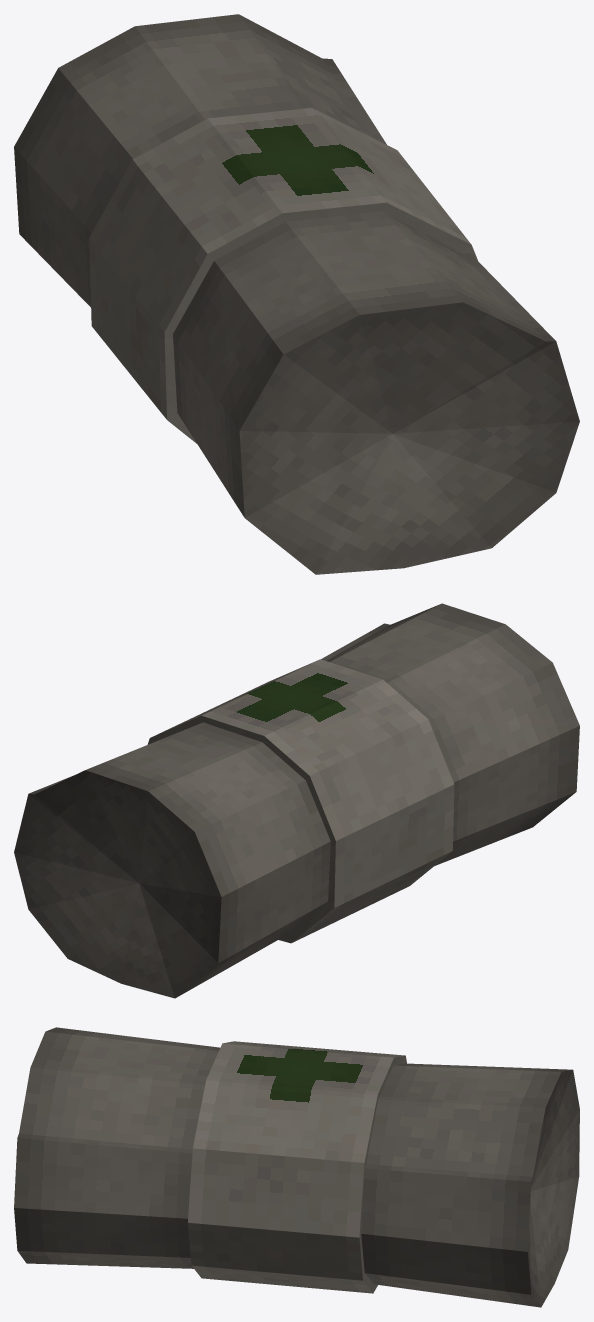
Rendered from blender_health_supplies_1.glb.
The picture shows the model from 3 angles, top to bottom: view 1: azimuth 30°, elevation 25°; view 2: azimuth 150°, elevation 25°; view 3: azimuth 270°, elevation 25°; orthographic projection. The views are drawn at different scales.
Parts seen in each view (by area): view 1: blender_health_supplies_1; view 2: blender_health_supplies_1; view 3: blender_health_supplies_1.
Boxes of the visible parts, x1,y1,x2,y2 form: blender_health_supplies_1: [14, 14, 579, 574]; blender_health_supplies_1: [14, 603, 579, 998]; blender_health_supplies_1: [14, 1027, 579, 1307].
Bounding box in the file's own units: 0.0836 × 0.0495 × 0.1283.
Materials: 1 (1 with a texture image).
